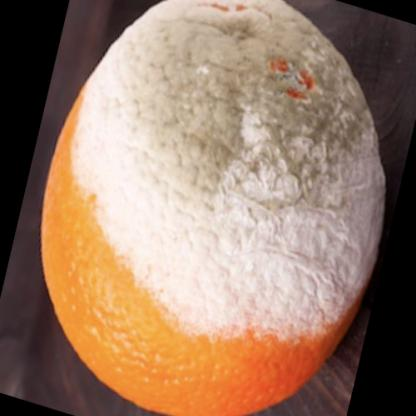rotten: (44, 1, 387, 416)
